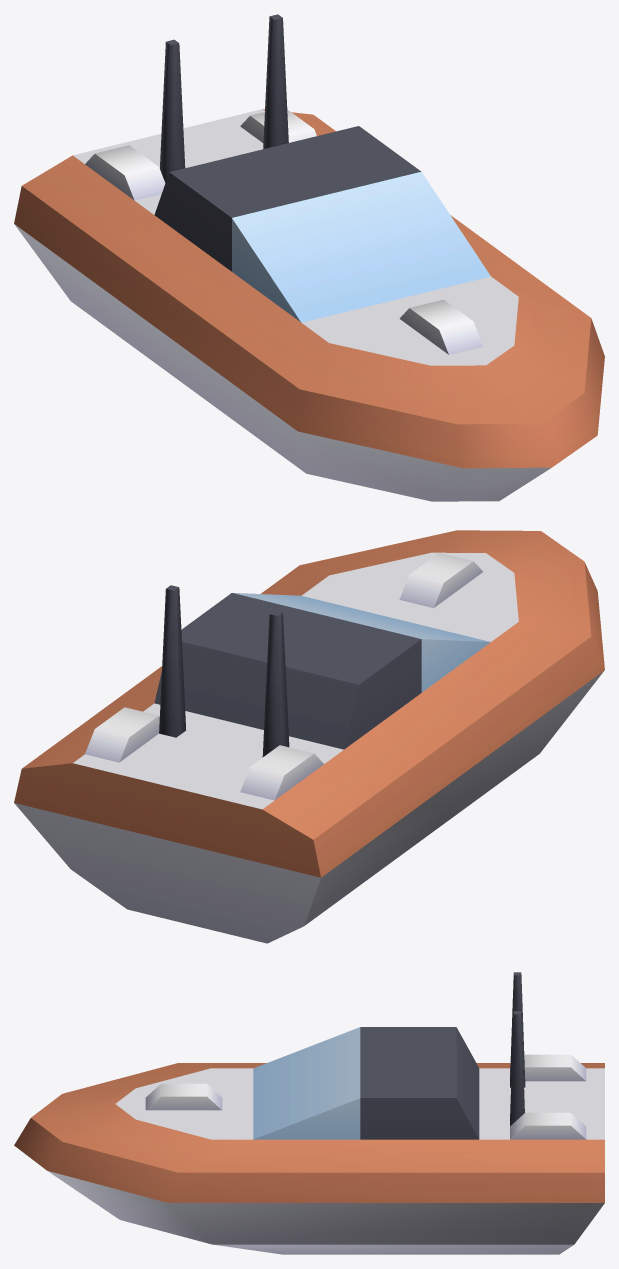
File: boat-speed-i.glb
3 renders of one model, top to bottom at view 1: azimuth 30°, elevation 25°; view 2: azimuth 150°, elevation 25°; view 3: azimuth 270°, elevation 25°, orthographic. The views are drawn at different scales.
Visible parts, largest first — view 1: boat-speed-i; view 2: boat-speed-i; view 3: boat-speed-i.
Part boxes in pixels (<box>): boat-speed-i: <box>14,14,604,501</box>; boat-speed-i: <box>14,530,604,943</box>; boat-speed-i: <box>14,972,604,1254</box>.
Bounding box in the file's own units: 1.78 × 1.7 × 3.87.
Materials: 1 (1 with a texture image).
